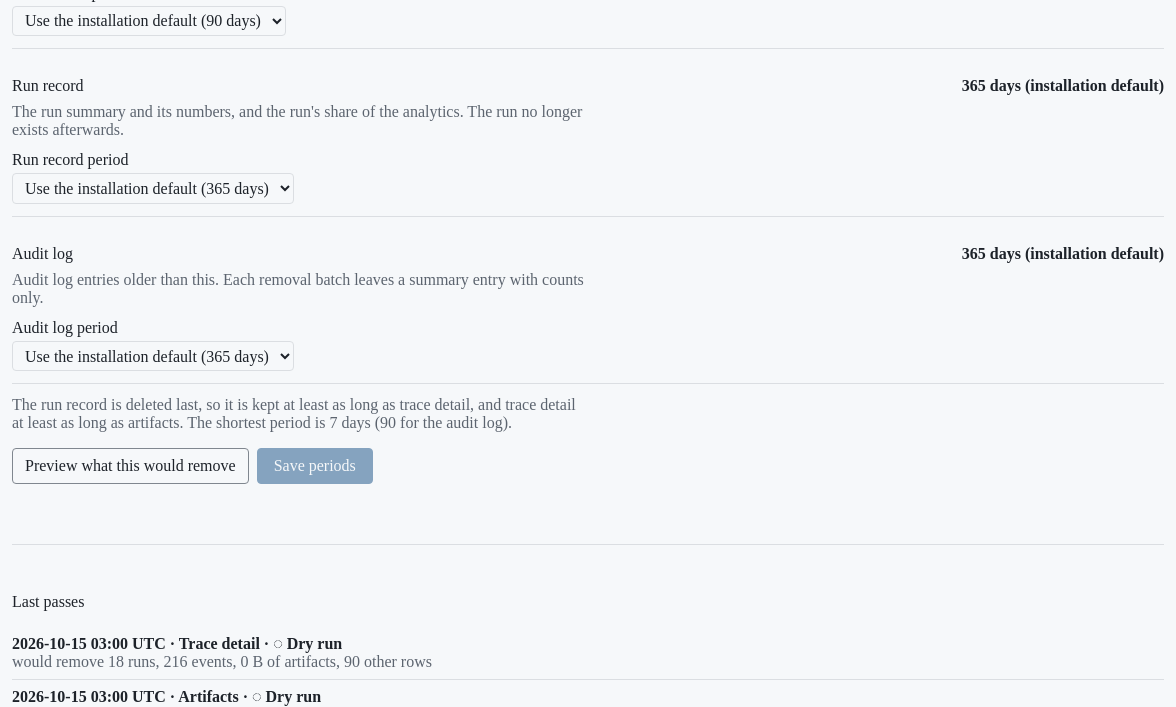
it: the four tiers › shows 'Keep forever' and 'set for this workspace' after a workspace choice
(page scrolled)
Select "Keep forever" in the dropdown labelled "Audit log period". click: (153, 356)
box: [12,341,294,371]
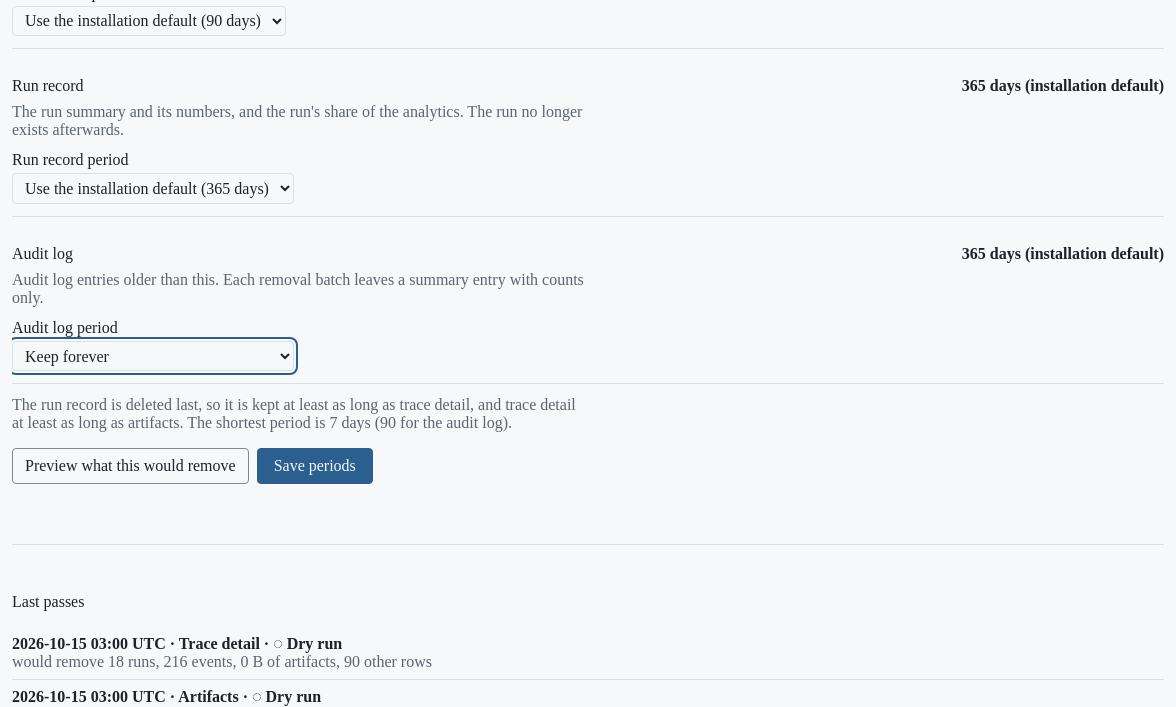
Click the button "Save periods". click: click(315, 466)
box: [257,448,373,484]
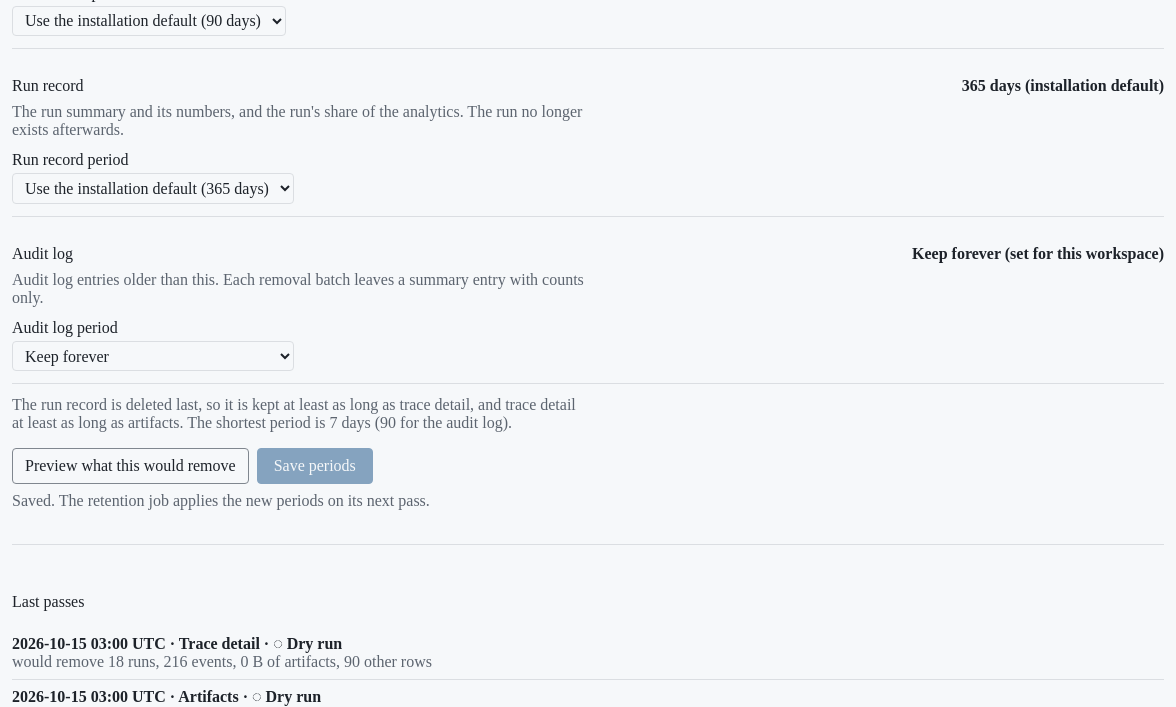
Now the text with test id "tier-value" reads "Keep forever (set for this workspace)", box [912,245,1164,262]
